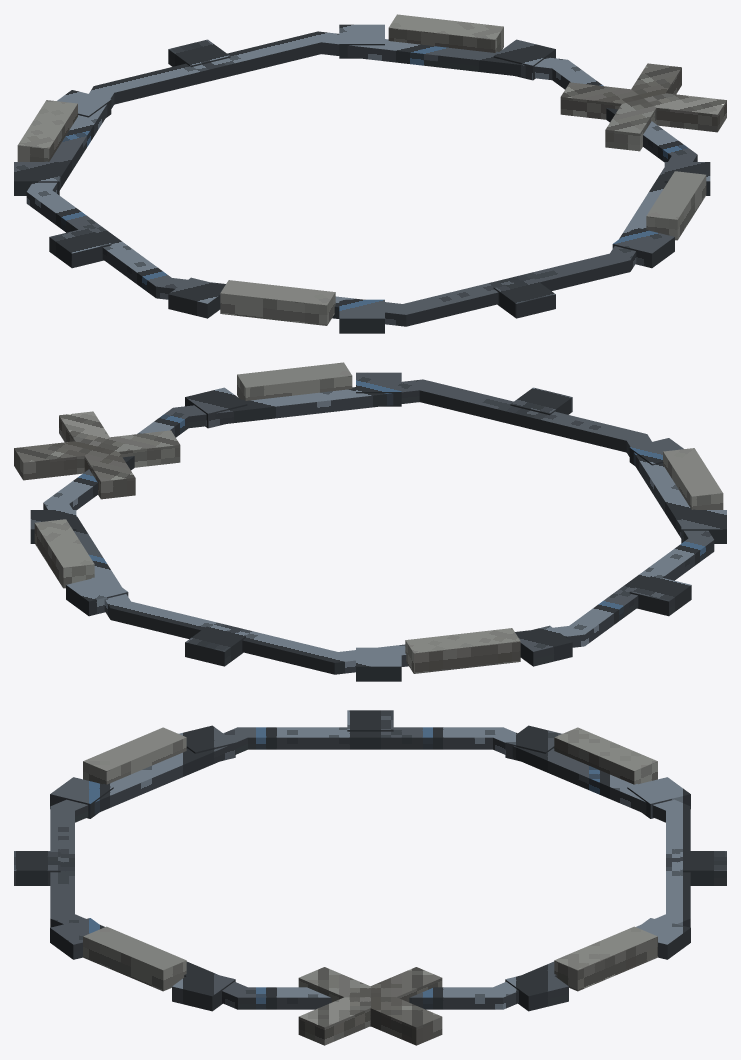
File: fx_telegraph_ring.glb
3 renders of one model, top to bottom at view 1: azimuth 30°, elevation 25°; view 2: azimuth 150°, elevation 25°; view 3: azimuth 270°, elevation 25°, orthographic. The views are drawn at different scales.
Parts seen in each view (by area): view 1: ring_rim, ring_cancel_1, ring_complete_2, ring_cancel_0, ring_complete_0, ring_complete_3, ring_complete_1, ring_tick_9, ring_tick_6, ring_tick_7, ring_tick_8, ring_tick_10 (+6 smaller); view 2: ring_rim, ring_cancel_0, ring_complete_1, ring_complete_3, ring_cancel_1, ring_complete_0, ring_complete_2, ring_tick_3, ring_tick_6, ring_tick_5, ring_tick_4, ring_tick_2 (+6 smaller); view 3: ring_rim, ring_cancel_0, ring_cancel_1, ring_complete_0, ring_complete_3, ring_complete_1, ring_complete_2, ring_tick_1, ring_tick_11, ring_tick_3, ring_tick_9, ring_tick_4 (+6 smaller).
Boxes of the visible parts, x1,y1,x2,y2 form: ring_rim: [26, 31, 697, 326]; ring_cancel_1: [560, 82, 726, 132]; ring_complete_2: [220, 280, 335, 325]; ring_cancel_0: [605, 63, 681, 151]; ring_complete_0: [388, 14, 503, 52]; ring_complete_3: [646, 171, 706, 240]; ring_complete_1: [17, 100, 77, 161]; ring_tick_9: [493, 277, 555, 318]; ring_tick_6: [49, 227, 111, 268]; ring_tick_7: [168, 277, 224, 318]; ring_tick_8: [339, 299, 384, 333]; ring_tick_10: [612, 227, 674, 268]; ring_rim: [43, 379, 714, 674]; ring_cancel_0: [14, 430, 180, 480]; ring_complete_1: [405, 628, 520, 673]; ring_complete_3: [237, 362, 352, 400]; ring_cancel_1: [59, 411, 135, 499]; ring_complete_0: [34, 519, 94, 588]; ring_complete_2: [663, 448, 723, 509]; ring_tick_3: [185, 625, 247, 666]; ring_tick_6: [629, 575, 691, 616]; ring_tick_5: [516, 625, 572, 666]; ring_tick_4: [356, 647, 401, 681]; ring_tick_2: [66, 575, 128, 616]; ring_rim: [50, 727, 690, 1009]; ring_cancel_0: [298, 967, 442, 1045]; ring_cancel_1: [298, 967, 442, 1045]; ring_complete_0: [554, 926, 657, 991]; ring_complete_3: [83, 926, 186, 991]; ring_complete_1: [554, 727, 657, 784]; ring_complete_2: [83, 727, 186, 784]; ring_tick_1: [505, 969, 568, 1011]; ring_tick_11: [172, 969, 235, 1011]; ring_tick_3: [680, 851, 726, 885]; ring_tick_9: [14, 851, 60, 885]; ring_tick_4: [627, 777, 690, 818].
Size of the model in its own units: 2.29 by 0.09 by 2.14.
Materials: 2 (2 with a texture image).
